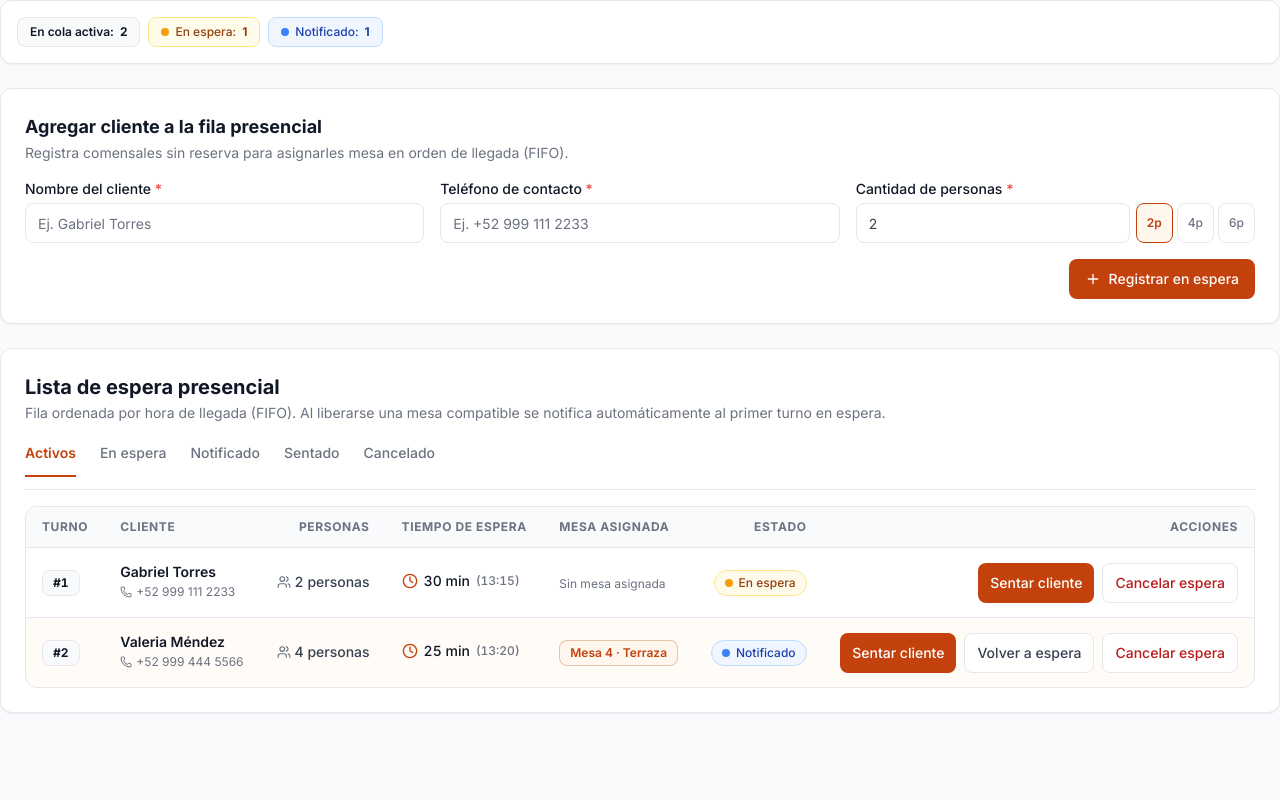
Test case: FE-010 · Vista de Lista de Espera Presencial y Alertas de Mesa Compatible (ListaEsperaView) › 1. Renderizado de la cola en orden FIFO y badges de estado (RF-025, SPEC §5.6, RN-17) › permite filtrar por pestañas de estado y navegar con teclado
Check: the table named "Cola de lista de espera" is shown, box [26,507,1254,687]
Filtrar por En espera
Click the tab "En espera" at (133, 458), box [100,439,166,477]
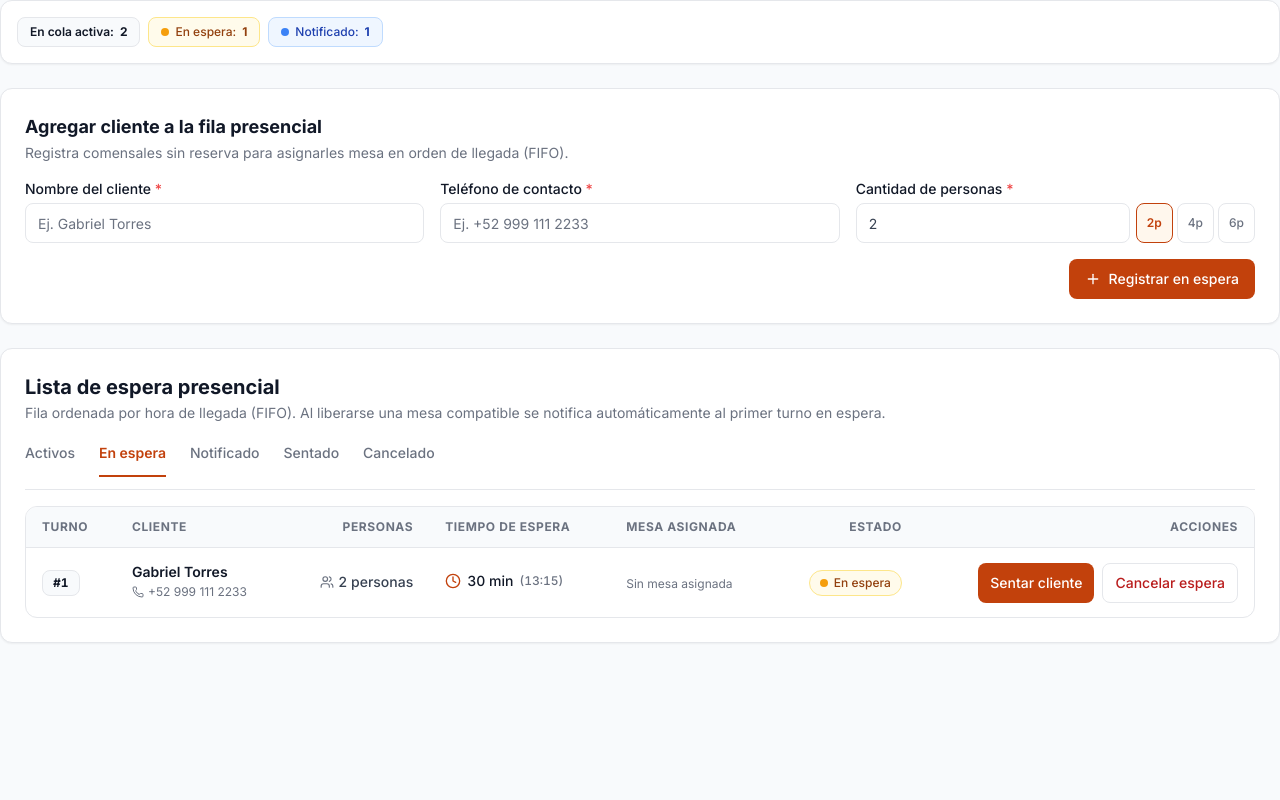
Check: the text "Gabriel Torres" is shown, box [132,563,228,580]
Check: the text "Valeria Méndez" is gone
Press ArrowRight in the tab "En espera", box [99,439,166,477]
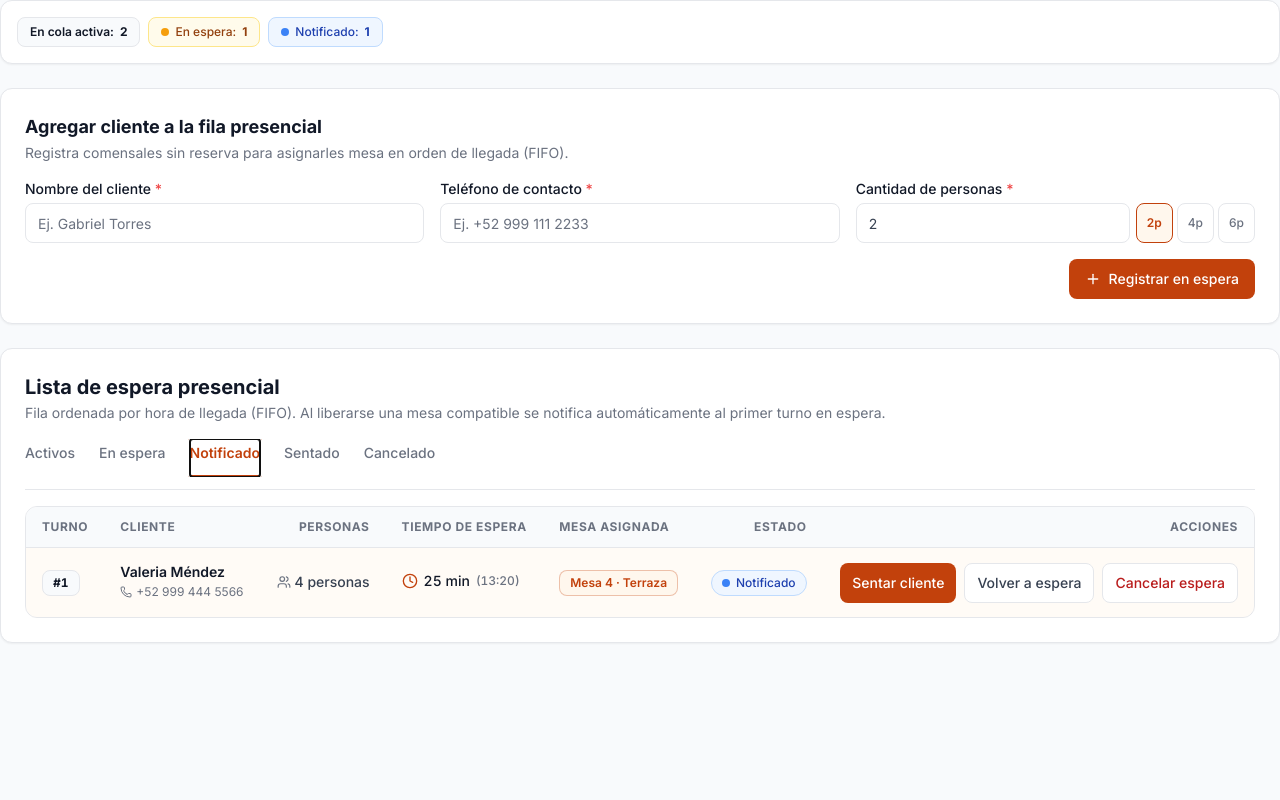
Check: the text "Valeria Méndez" is shown, box [120,563,225,580]
Filtrar por Sentado
Click the tab "Sentado" at (312, 458), box [284,439,340,477]
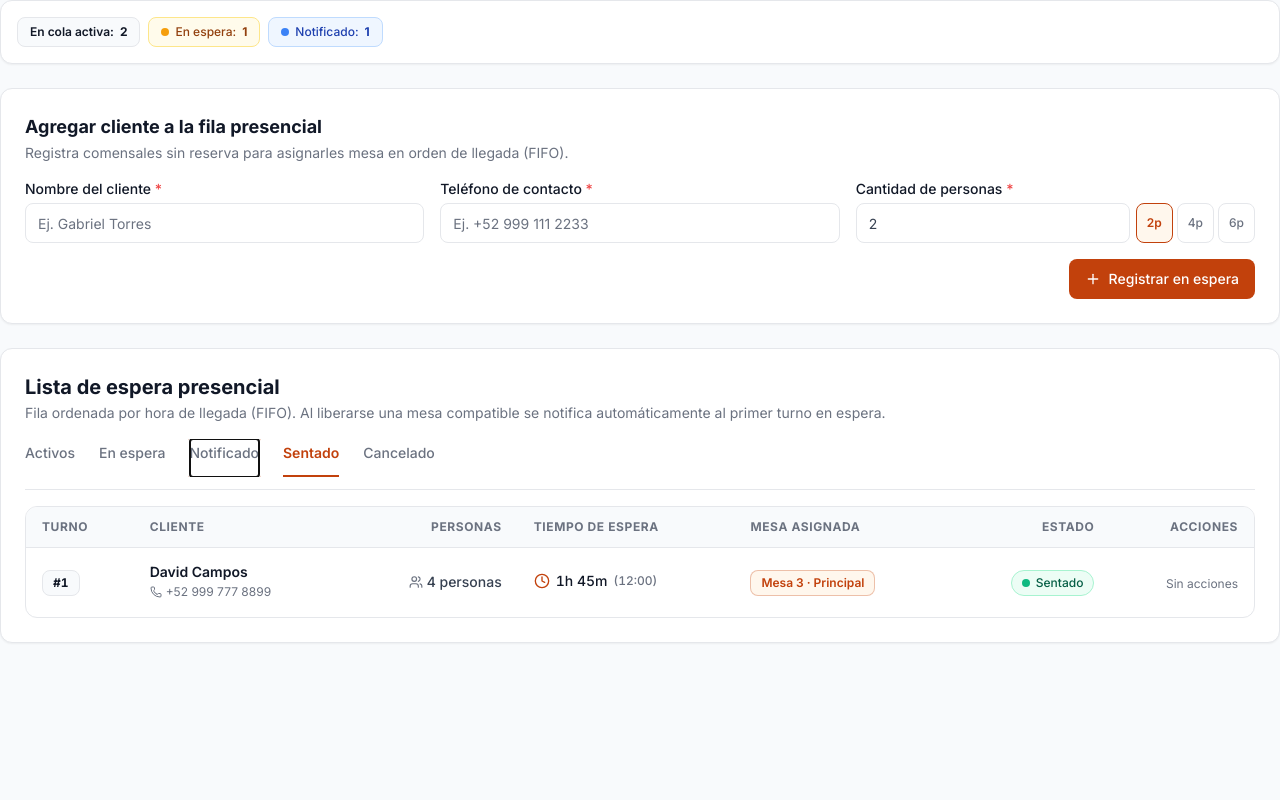
Check: the text "David Campos" is shown, box [150,563,248,580]
Filtrar por Cancelado
Click the tab "Cancelado" at (399, 458), box [363,439,435,477]
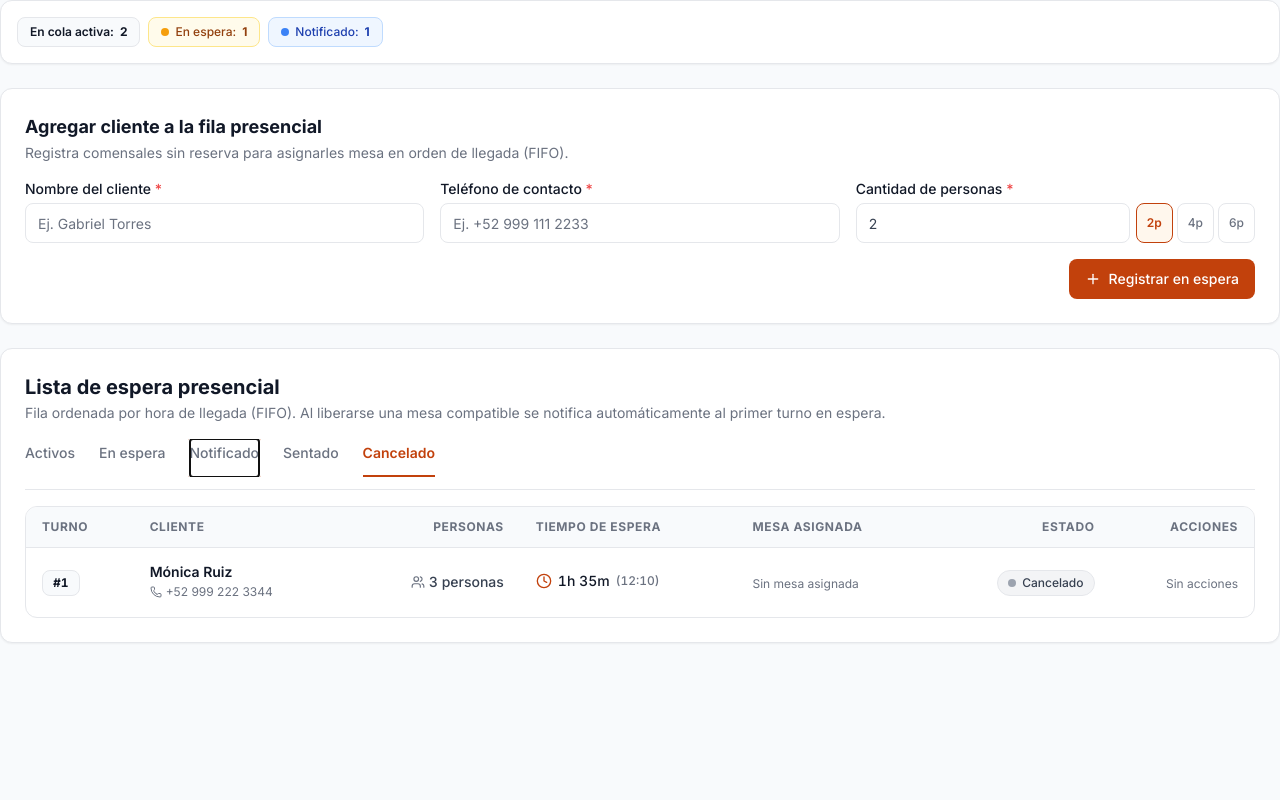
Check: the text "Mónica Ruiz" is shown, box [150,563,232,580]
